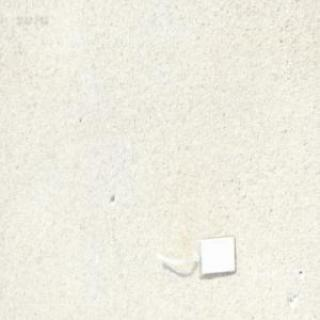LuggageTagtrack_idkeyframe: (154, 231, 235, 277)
